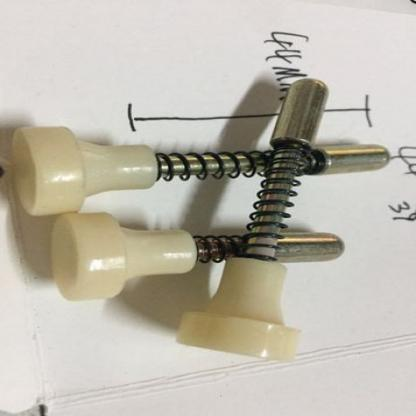FOD: (237, 142, 307, 262), (146, 145, 320, 187)
